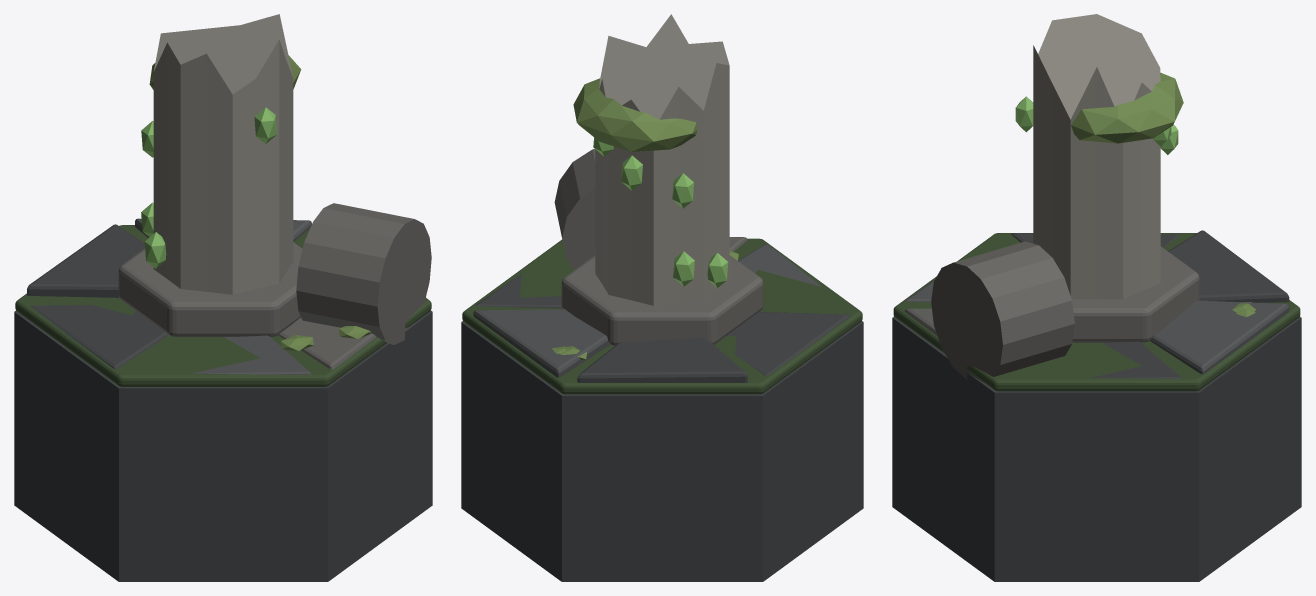
Rendered from hex_pillar.glb.
3 views of the same model, side by side, from view 1: azimuth 30°, elevation 25°; view 2: azimuth 150°, elevation 25°; view 3: azimuth 270°, elevation 25° (orthographic). The views are drawn at different scales.
Parts seen in each view (by area): view 1: hex_pillar; view 2: hex_pillar; view 3: hex_pillar.
Part boxes in pixels (box(x1,y1,x2,y2)): hex_pillar: box(14, 14, 432, 581); hex_pillar: box(461, 14, 863, 581); hex_pillar: box(892, 14, 1301, 581).
Size of the model in its own units: 1.71 by 2.5 by 1.96.
